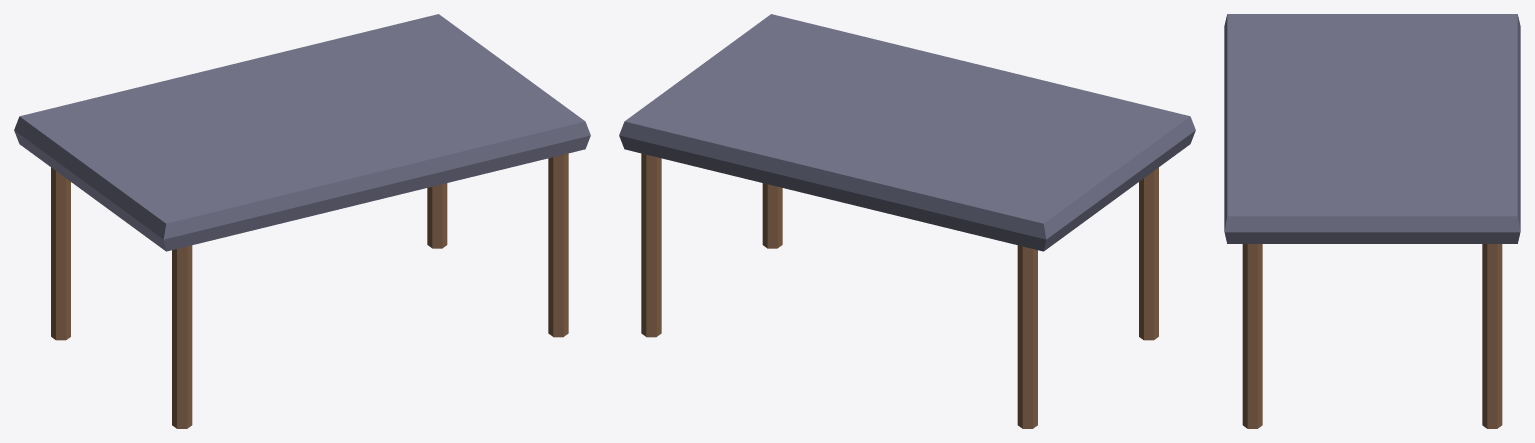
The model's file is Table.fbx.
The picture shows the model from 3 angles, left to right: view 1: azimuth 30°, elevation 25°; view 2: azimuth 150°, elevation 25°; view 3: azimuth 270°, elevation 25°; orthographic projection.
Parts seen in each view (by area): view 1: Table; view 2: Table; view 3: Table.
Boxes of the visible parts, bbox=[...] form: Table: bbox=[14, 14, 590, 428]; Table: bbox=[619, 14, 1195, 428]; Table: bbox=[1224, 14, 1520, 428].
Size of the model in its own units: 204 by 99.36 by 124.
